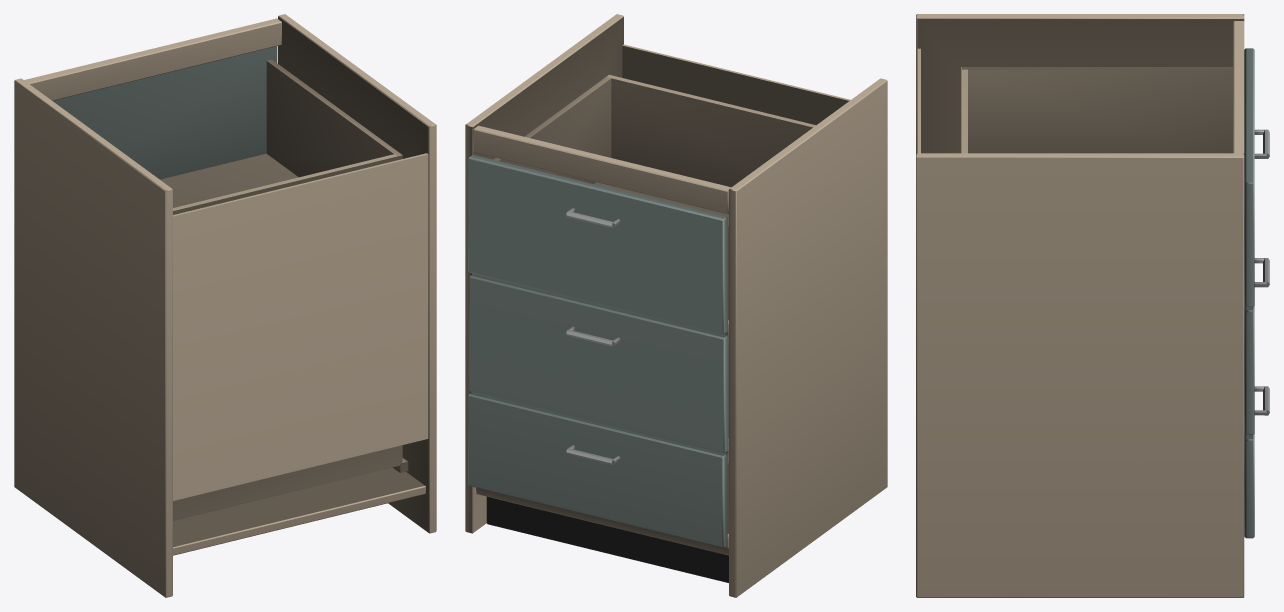
The model's file is counter_drawers.glb.
The picture shows the model from 3 angles, left to right: view 1: azimuth 30°, elevation 25°; view 2: azimuth 150°, elevation 25°; view 3: azimuth 270°, elevation 25°; orthographic projection. The views are drawn at different scales.
Visible parts, largest first — view 1: carcass, drawer_0, drawer_2; view 2: carcass, drawer_0, drawer_1, drawer_2; view 3: carcass, drawer_0, drawer_1, drawer_2.
Boxes of the visible parts, x1=… form: carcass: x1=14, y1=14, x2=436, y2=597; drawer_0: x1=53, y1=46, x2=402, y2=214; drawer_2: x1=173, y1=445, x2=402, y2=520; carcass: x1=465, y1=14, x2=887, y2=597; drawer_0: x1=468, y1=74, x2=815, y2=334; drawer_1: x1=469, y1=273, x2=728, y2=453; drawer_2: x1=468, y1=392, x2=728, y2=547; carcass: x1=916, y1=14, x2=1244, y2=597; drawer_0: x1=961, y1=48, x2=1269, y2=307; drawer_1: x1=1244, y1=258, x2=1269, y2=435; drawer_2: x1=1244, y1=386, x2=1269, y2=538.
Bounding box in the file's own units: 0.6 × 0.86 × 0.625.
